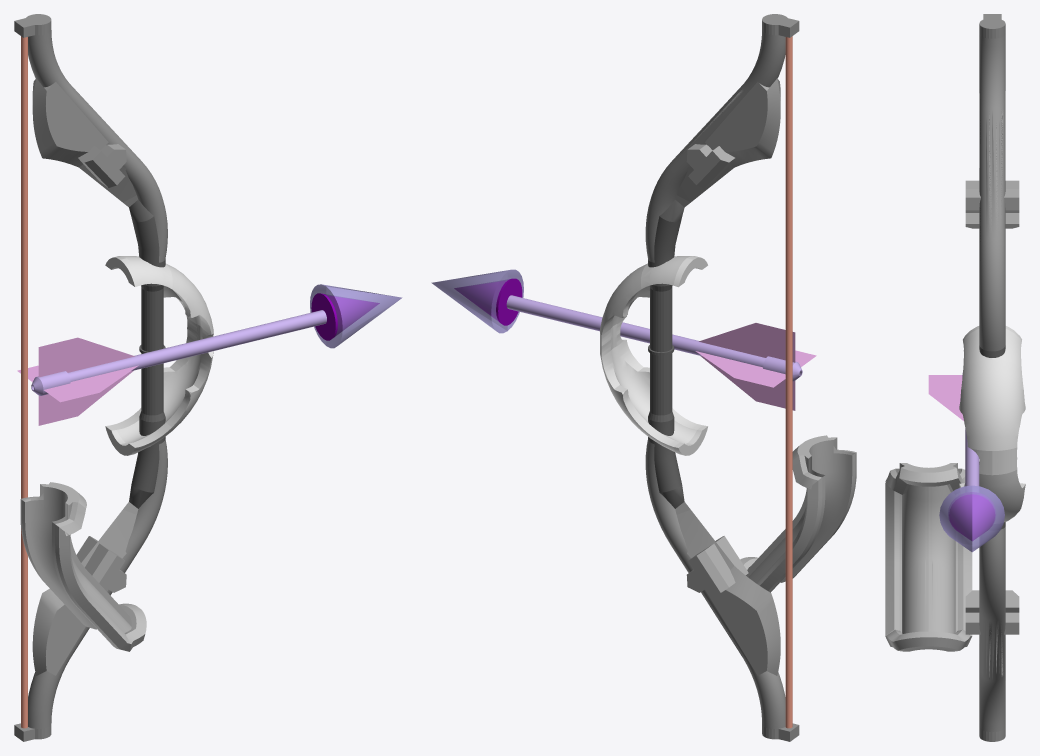
File: bow.fbx
3 renders of one model, left to right at view 1: azimuth 30°, elevation 25°; view 2: azimuth 150°, elevation 25°; view 3: azimuth 270°, elevation 25°, orthographic.
Parts seen in each view (by area): view 1: group_5, group_2, group_4, Component_5.020, instance_4, group_6, instance_7, group_8, Component_5.023, group_1, group_3, group_10 (+6 smaller); view 2: group_4, group_5, group_2, group_6, instance_4, instance_7, Component_5.021, Component_5.020, group_1, group_8, group_3, group_10 (+6 smaller); view 3: instance_4, group_5, Component_5.020, Component_5.021, instance_7, Component_5.022, group_10, Component_5.023, group_2, group_9, group_4, instance_1 (+1 smaller).
Boxes of the visible parts, x1,y1,x2,y2 form: group_5: (105, 256, 213, 455); group_2: (32, 78, 138, 207); group_4: (32, 502, 138, 675); Component_5.020: (52, 490, 146, 651); instance_4: (14, 14, 167, 262); group_6: (21, 36, 27, 728); instance_7: (14, 439, 167, 741); group_8: (31, 310, 326, 390); Component_5.023: (22, 482, 138, 629); group_1: (129, 353, 165, 508); group_3: (129, 199, 165, 351); group_10: (310, 284, 402, 348); group_4: (675, 502, 780, 675); group_5: (600, 256, 707, 455); group_2: (675, 78, 780, 207); group_6: (785, 36, 792, 728); instance_4: (645, 14, 799, 262); instance_7: (645, 439, 799, 741); Component_5.021: (742, 447, 825, 591); Component_5.020: (744, 435, 856, 581); group_1: (648, 353, 684, 508); group_8: (506, 295, 801, 375); group_3: (648, 199, 684, 352); group_10: (431, 269, 523, 333); instance_4: (979, 14, 1005, 351); group_5: (959, 326, 1025, 522); Component_5.020: (885, 463, 928, 651); Component_5.021: (928, 463, 972, 651); instance_7: (979, 526, 1005, 741); Component_5.022: (885, 463, 928, 651); group_10: (939, 485, 1004, 552); Component_5.023: (928, 463, 972, 651); group_2: (965, 91, 1019, 228); group_9: (949, 494, 995, 540); group_4: (965, 590, 1019, 680); instance_1: (928, 375, 963, 420).
Bounding box in the file's own units: 119 × 211 × 37.53.
